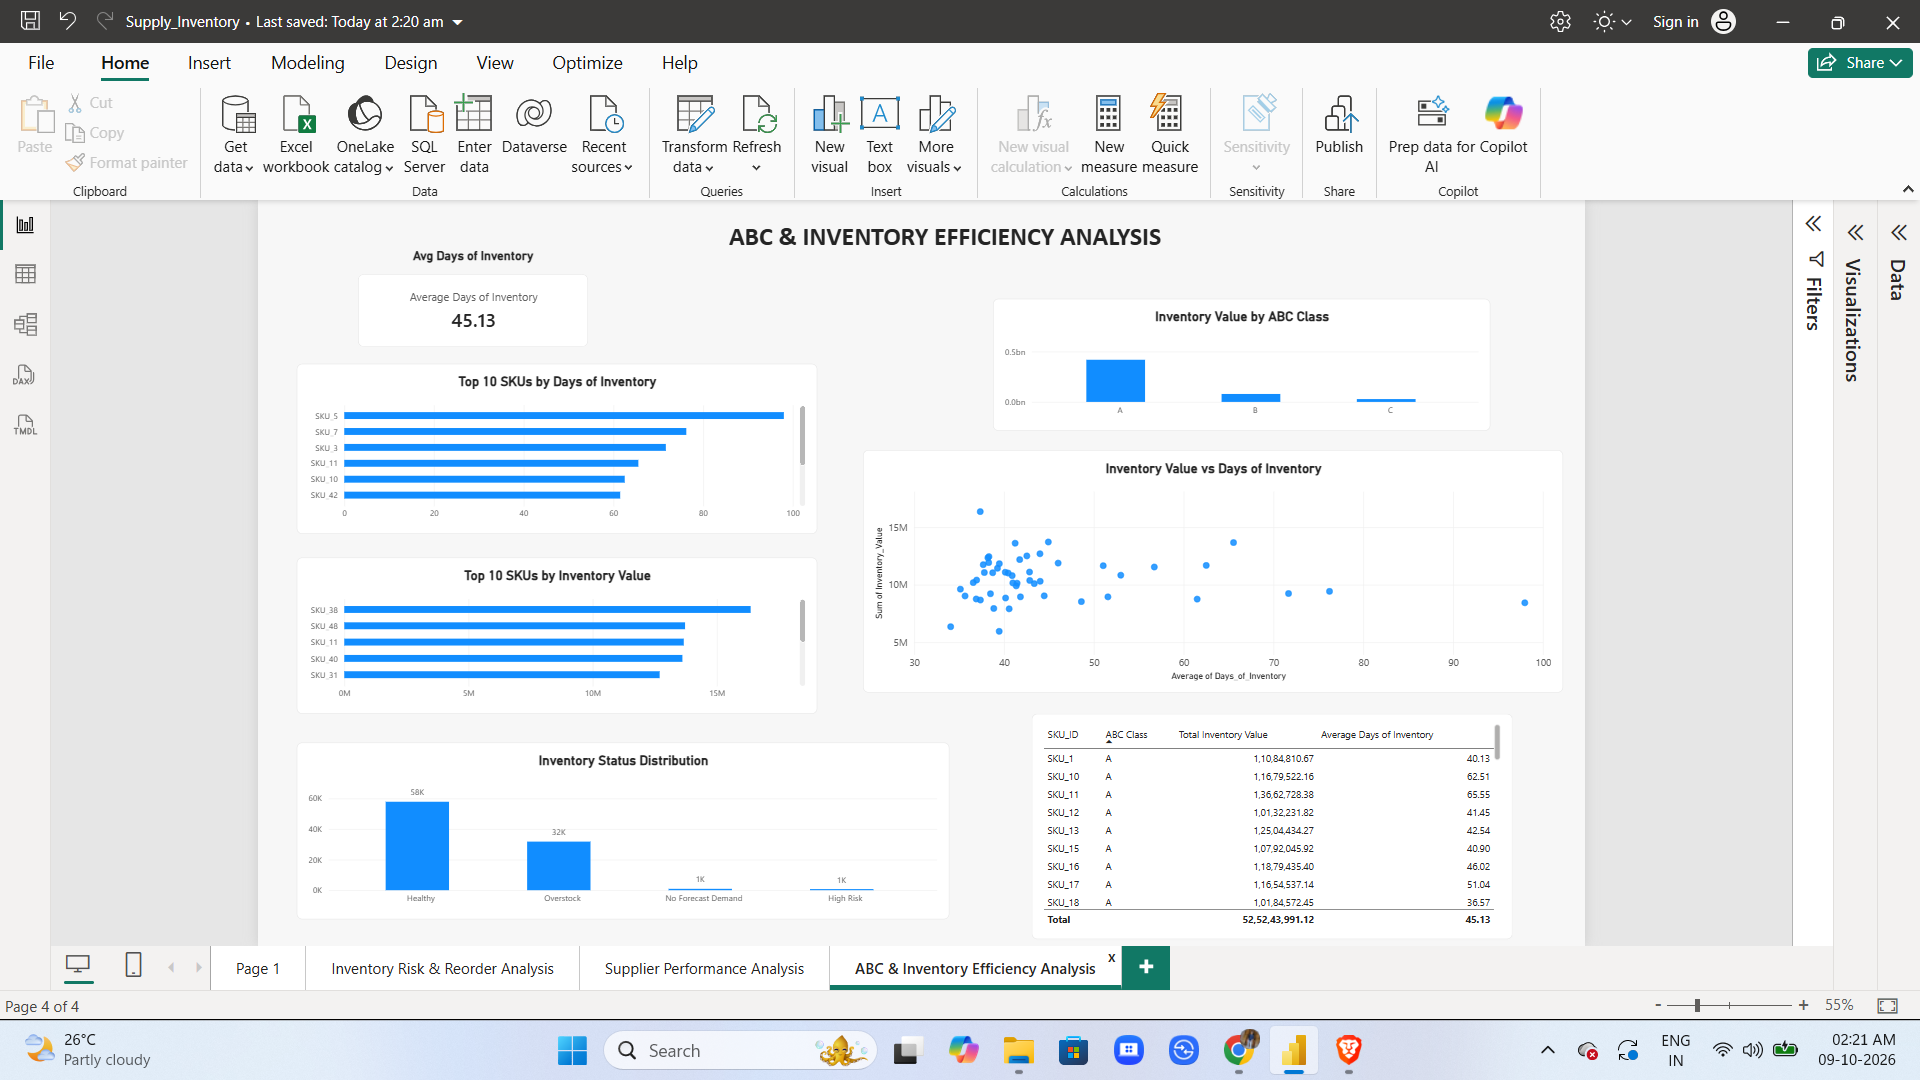

The page's visual inventory and layout, read from the dashboard file:
{"tool":"powerbi","page":{"name":"ABC & Inventory Efficiency Analysis","canvas":[1920,1080],"ordinal":3},"visuals":[{"type":"cardVisual","title":"Avg Days of Inventory","fields":{"Data":["SupplyChain.Average Days of Inventory"]},"box":[144.5,71.1,333.4,142.3],"z":0},{"type":"clusteredBarChart","title":"Top 10 SKUs by Days of Inventory","fields":{"Category":["SupplyChain.SKU_ID"],"Y":["Avg(SupplyChain.Days_of_Inventory)"]},"box":[55.6,237.8,753.5,246.7],"z":1000},{"type":"clusteredBarChart","title":"Top 10 SKUs by Inventory Value","fields":{"Category":["SupplyChain.SKU_ID"],"Y":["Sum(SupplyChain.Inventory_Value)"]},"box":[55.6,517.9,753.5,226.7],"z":2000},{"type":"scatterChart","title":"Inventory Value vs Days of Inventory","fields":{"Category":["SupplyChain.SKU_ID"],"X":["Avg(SupplyChain.Days_of_Inventory)"],"Y":["Sum(SupplyChain.Inventory_Value)"]},"box":[875.8,362.3,1013.6,351.2],"z":3000},{"type":"columnChart","title":"Inventory Status Distribution","fields":{"Category":["SupplyChain.Inventory_Status"],"Y":["CountNonNull(SupplyChain.SKU_ID)"]},"box":[55.6,784.6,944.7,255.6],"z":4000},{"type":"textbox","box":[97.8,24.5,1822.7,93.4],"z":5000},{"type":"clusteredColumnChart","title":"Inventory Value by ABC Class","fields":{"Category":["SupplyChain.ABC Class"],"Y":["SupplyChain.Total Inventory Value"]},"box":[1064.7,142.3,720.2,191.2],"z":5001},{"type":"tableEx","fields":{"Values":["SupplyChain.SKU_ID","SupplyChain.ABC Class","SupplyChain.Total Inventory Value","SupplyChain.Average Days of Inventory"]},"box":[1120.3,744.6,695.7,326.7],"z":5002}]}

Visuals, with their boxes on the page's 1920x1080 design canvas (x1, y1, x2, y2). These are canvas units, not pixel positions in the 1920x1080 screenshot, which may show the page scaled, cropped or inside an application window:
"Avg Days of Inventory" cardVisual: select_region(144, 71, 478, 213)
"Top 10 SKUs by Days of Inventory" clusteredBarChart: select_region(56, 238, 809, 484)
"Top 10 SKUs by Inventory Value" clusteredBarChart: select_region(56, 518, 809, 745)
"Inventory Value vs Days of Inventory" scatterChart: select_region(876, 362, 1889, 714)
"Inventory Status Distribution" columnChart: select_region(56, 785, 1000, 1040)
textbox: select_region(98, 24, 1920, 118)
"Inventory Value by ABC Class" clusteredColumnChart: select_region(1065, 142, 1785, 334)
tableEx - SupplyChain.SKU_ID x SupplyChain.ABC Class: select_region(1120, 745, 1816, 1071)
